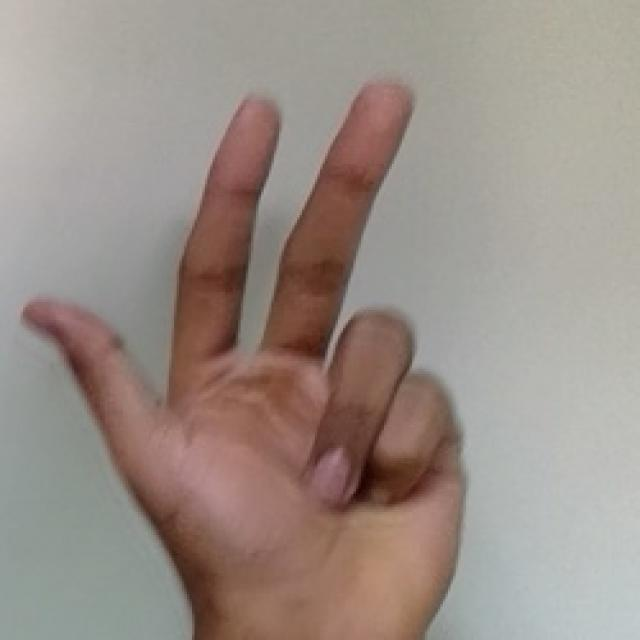Numeric-3: (26, 74, 469, 625)
